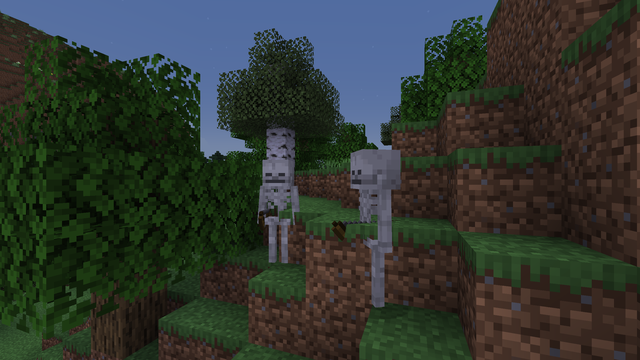squelettes: (346, 149, 397, 315), (257, 159, 298, 267)
